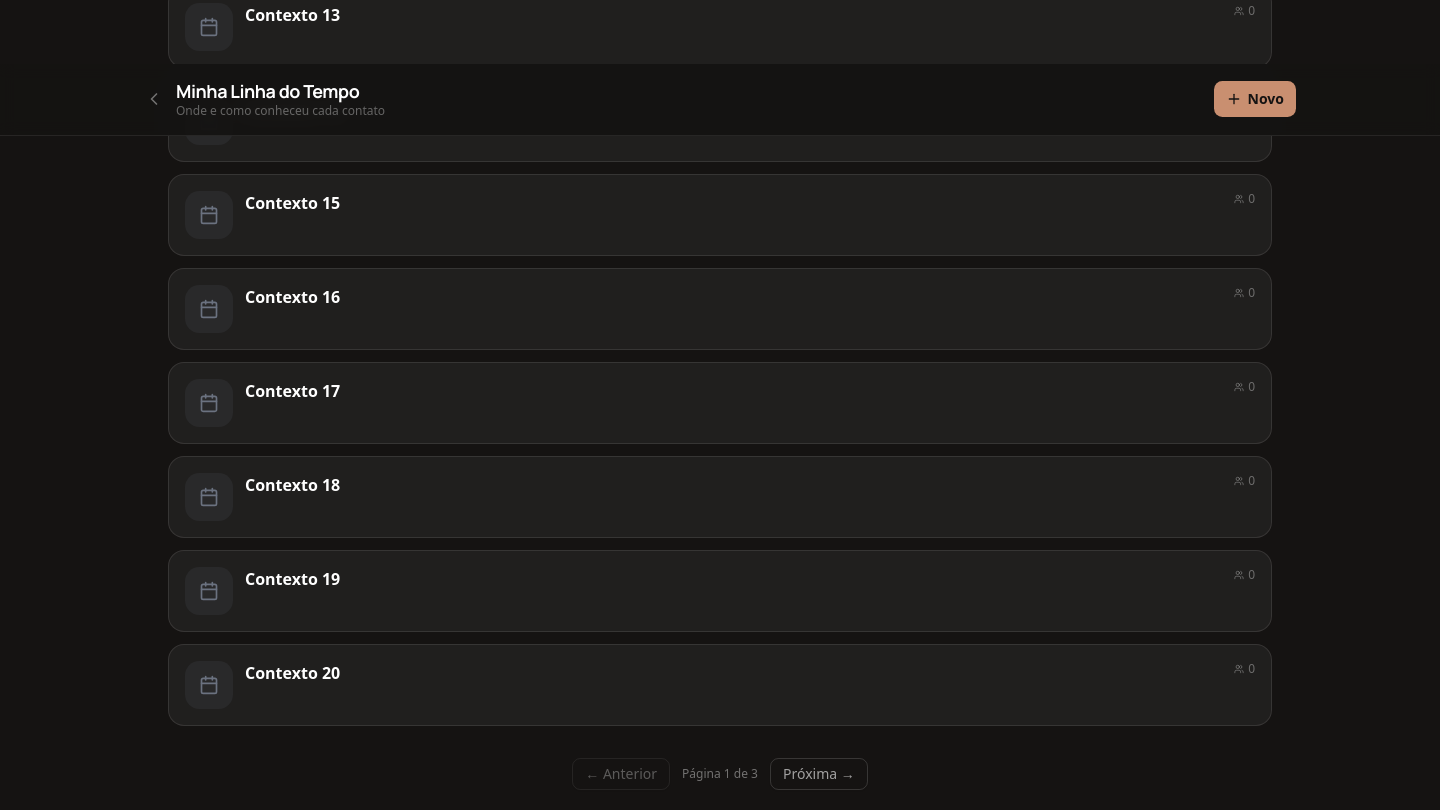
Test: Minha Linha do Tempo — página que deixou de existir volta para a ÚLTIMA que existe › 41 contextos, o único da página 3 é excluído: a consulta seguinte pede a página 2 (não a 1) e 'Contexto 21' aparece
The image size is (1440, 810).
(page scrolled)
Click the button "Próxima →".
click(819, 774)  # box x1=770 y1=758 x2=868 y2=790
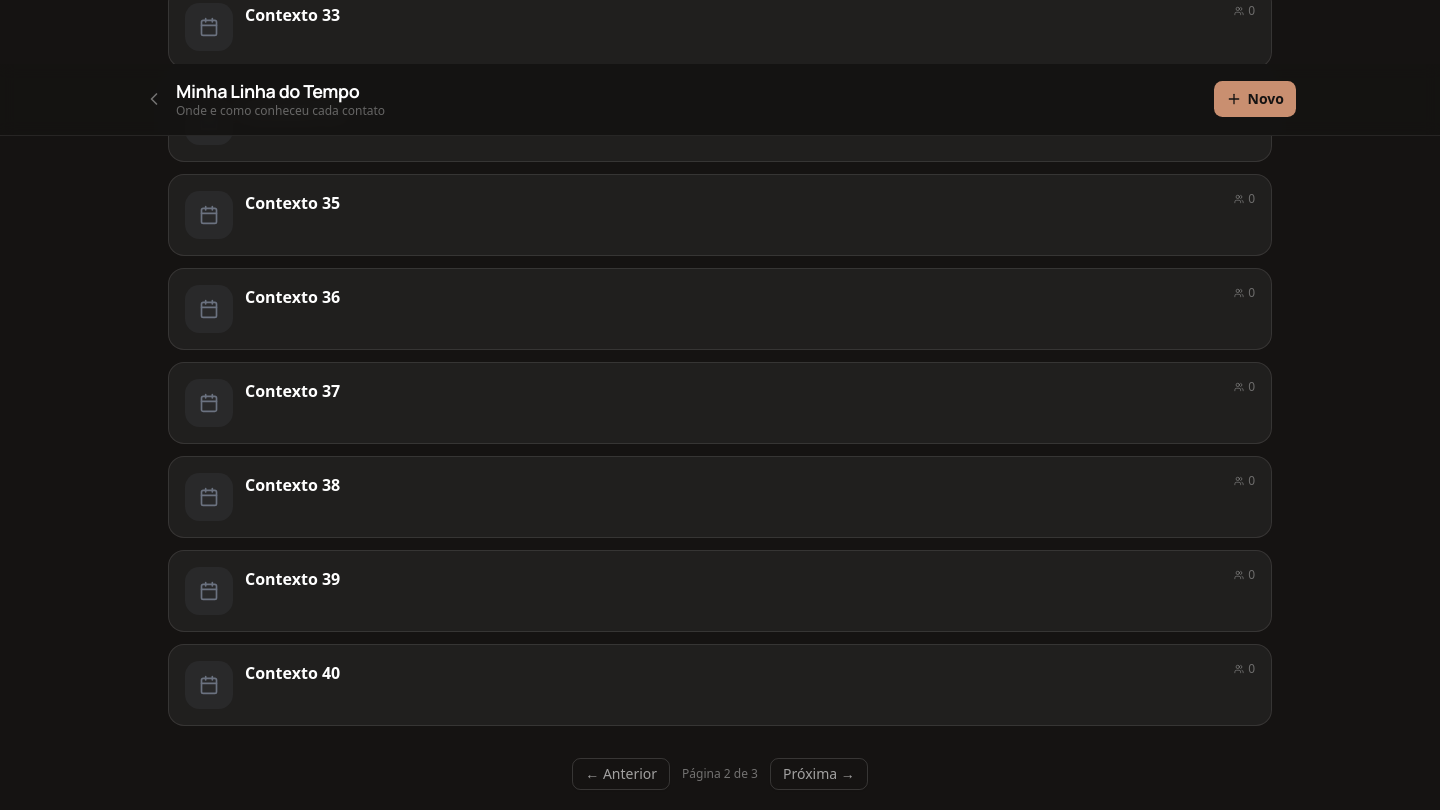
Click the button "Próxima →".
click(819, 774)  # box x1=770 y1=758 x2=868 y2=790
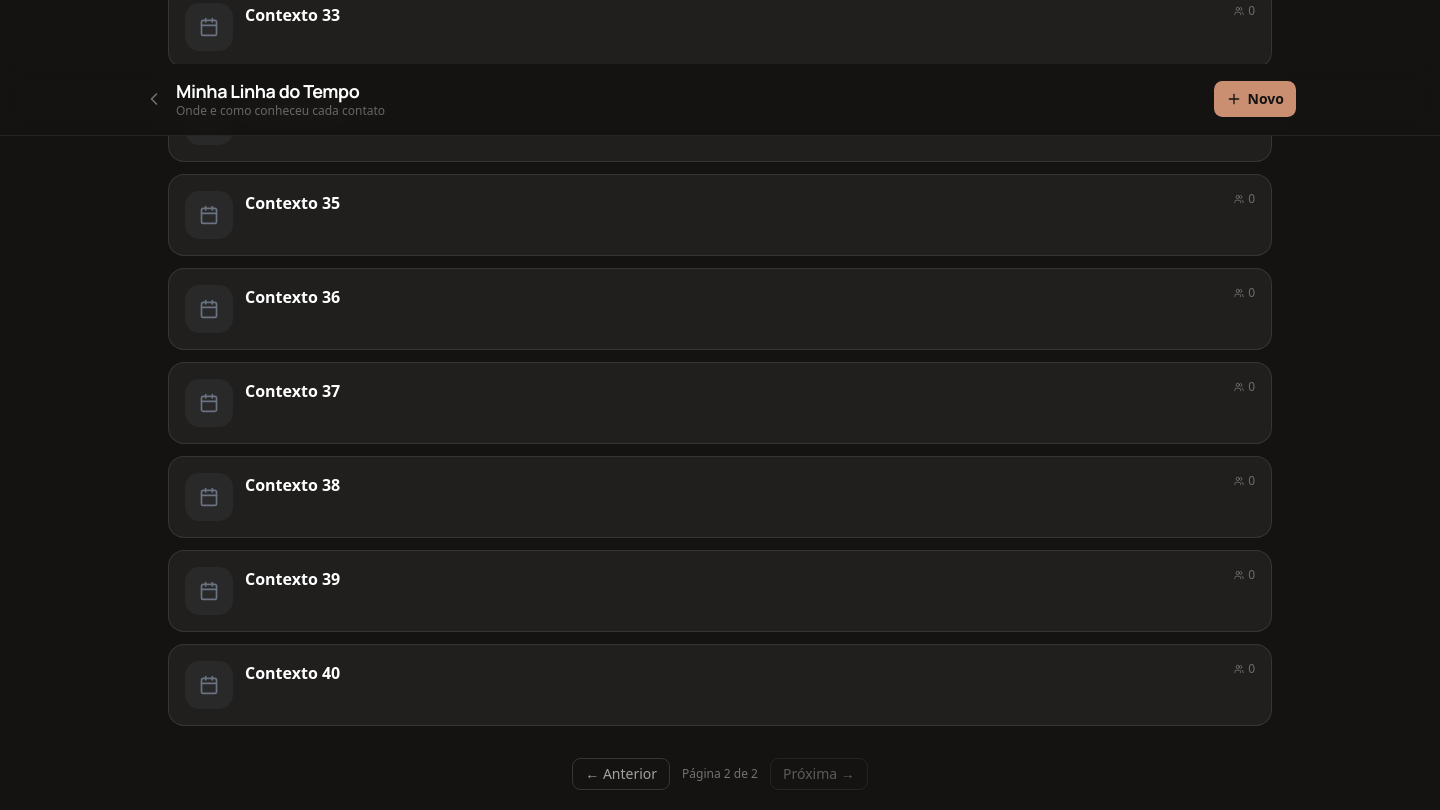
Expected: the text "Contexto 1" is not shown
Expected: the text "Página 2 de 2" is shown, x1=682 y1=766 x2=758 y2=782
